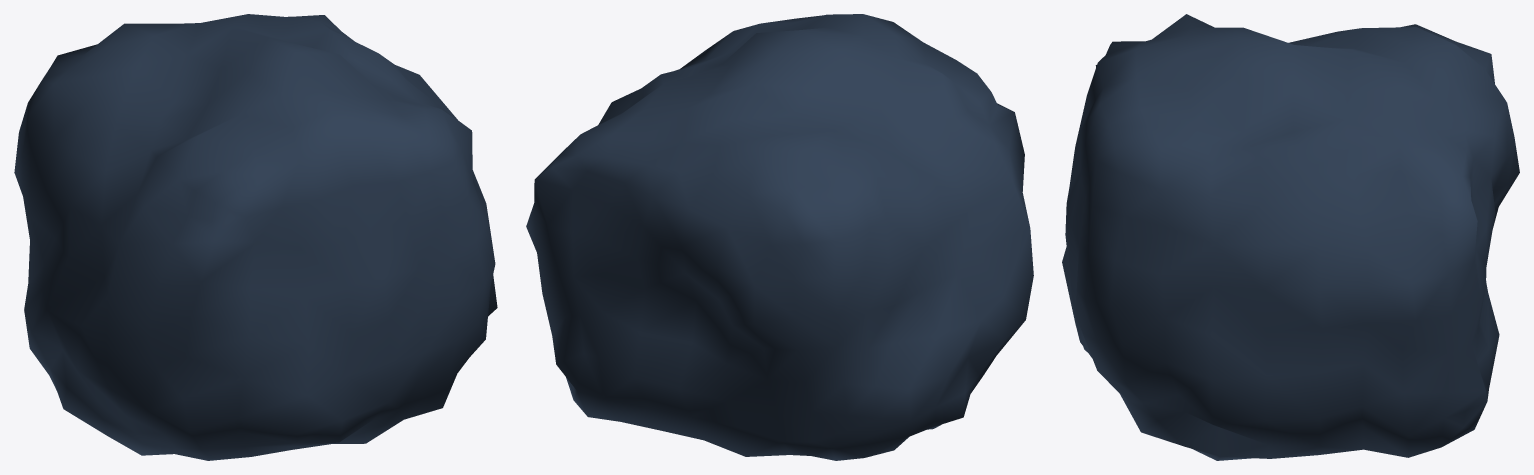
Rendered from Silicon.fbx.
3 renders of one model, left to right at view 1: azimuth 30°, elevation 25°; view 2: azimuth 150°, elevation 25°; view 3: azimuth 270°, elevation 25°, orthographic. The views are drawn at different scales.
Parts seen in each view (by area): view 1: Silicon; view 2: Silicon; view 3: Silicon.
Part boxes in pixels (x1=…): Silicon: x1=14, y1=14, x2=497, y2=460; Silicon: x1=526, y1=14, x2=1033, y2=460; Silicon: x1=1062, y1=14, x2=1519, y2=460.
Bounding box in the file's own units: 58.31 × 53.62 × 55.75.
